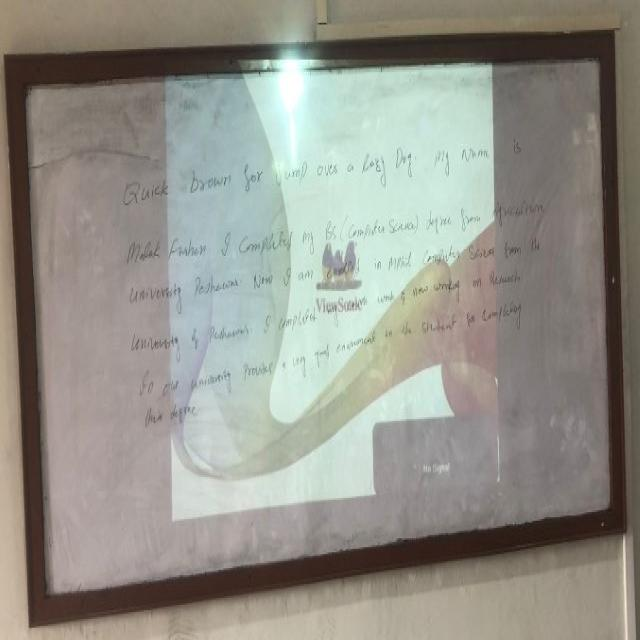Slide: (161, 63, 505, 531)
White-board: (8, 37, 621, 613)
